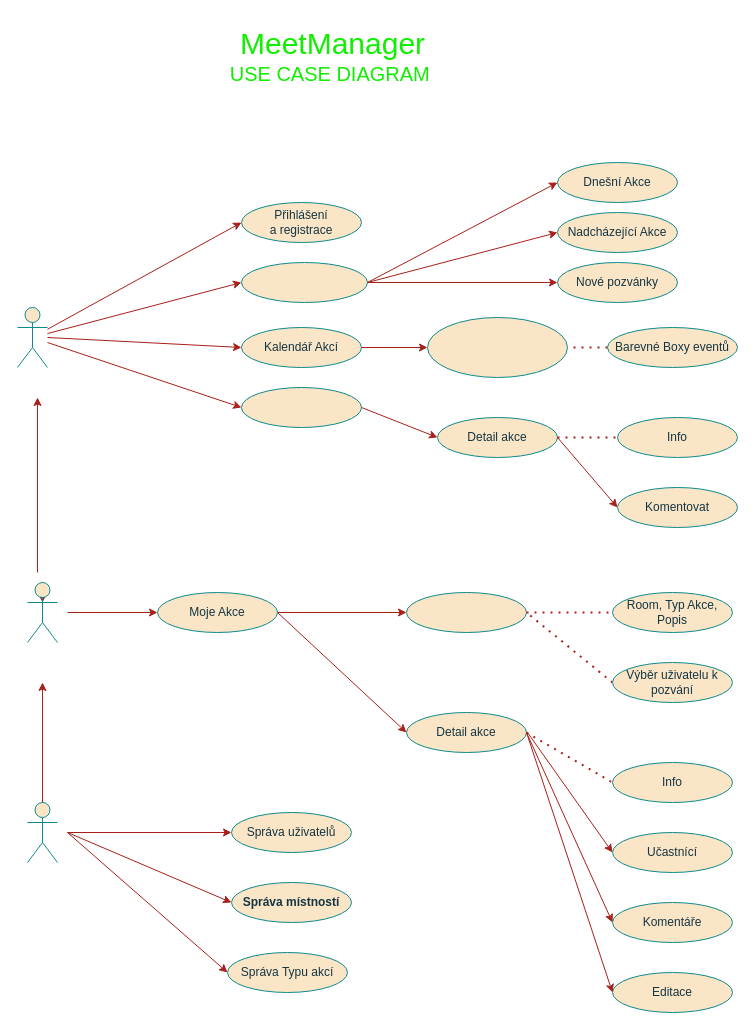
The diagram is 755 pixels wide and 1030 high, and some of its shapes have lost their labels. The box of each missing label's shape, as (x1, y1, x2, y2) in pixels:
Admin: (26, 802, 58, 862)
Dashboard Akcí: (240, 262, 368, 302)
Manager: (26, 582, 58, 642)
Měsiční / Tyddenní zobrazení: (426, 316, 568, 378)
User: (16, 306, 48, 368)
Vytvoření akce: (406, 592, 526, 632)
Zůčastním se seznam: (240, 386, 362, 428)
